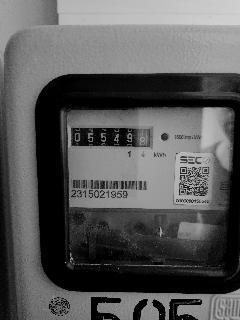1: (75, 133, 80, 142)
5: (114, 134, 118, 143)
6: (89, 134, 93, 143), (102, 133, 106, 142)
9: (140, 137, 144, 145)
:: (128, 134, 132, 143)
